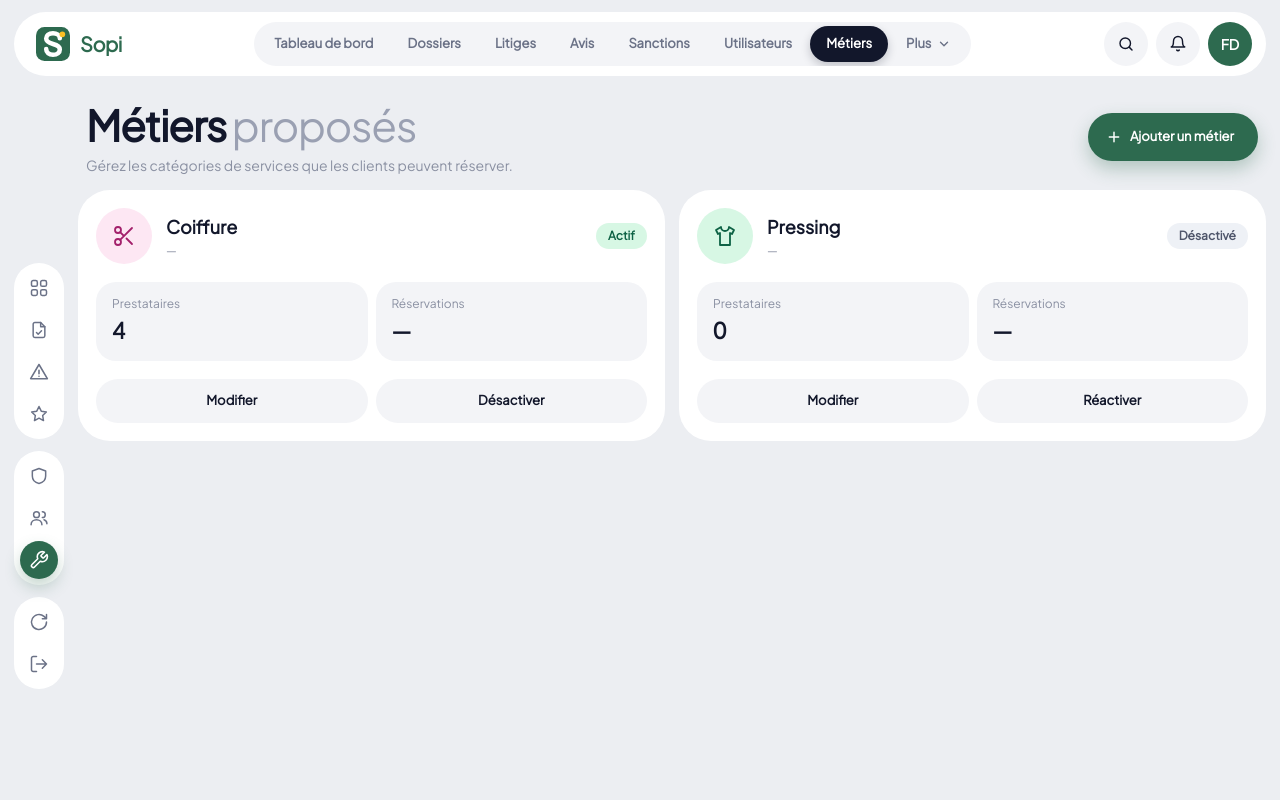
Test: métiers › réactive un métier désactivé, et signale le refus du dernier métier actif (409 simulé)
The width and height of the screenshot is (1280, 800).
What coordinates should you click on to do the following:
click the button with aria-label "Réactiver le métier Pressing"
I would click on:
 (1112, 401)
Its box is [976,379,1248,423].
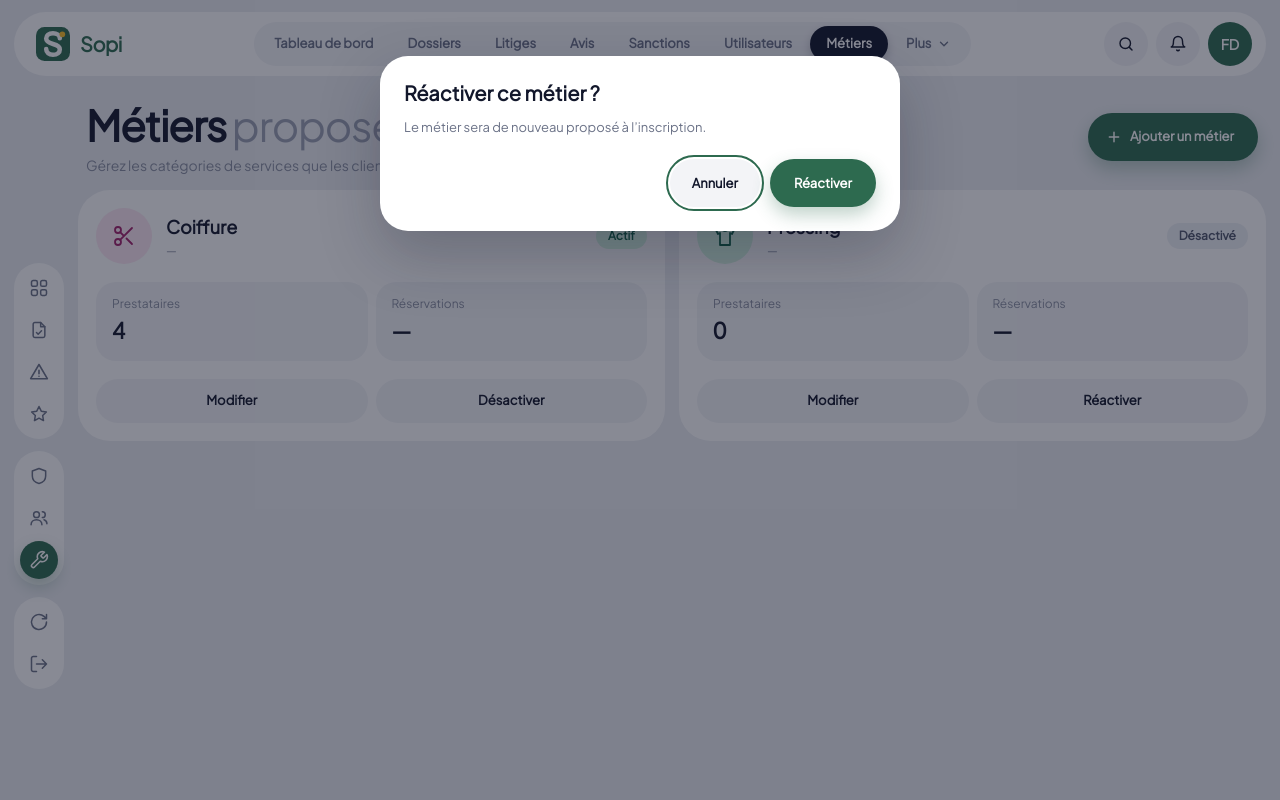
What coordinates should you click on to do the following:
click the button "Réactiver"
I would click on:
 (823, 183)
Its box is [770,159,876,207].
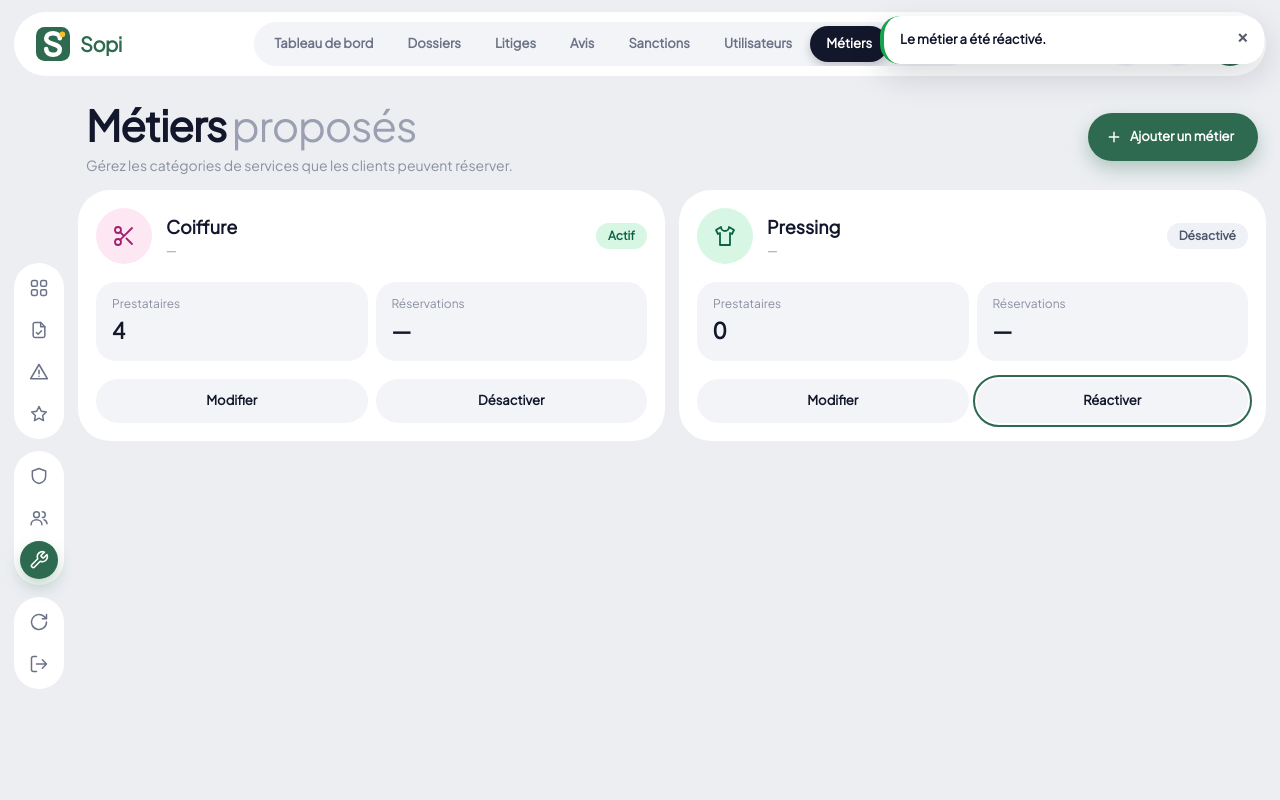
Check: the text "Le métier a été réactivé." is shown, box [900,31,1046,47]
